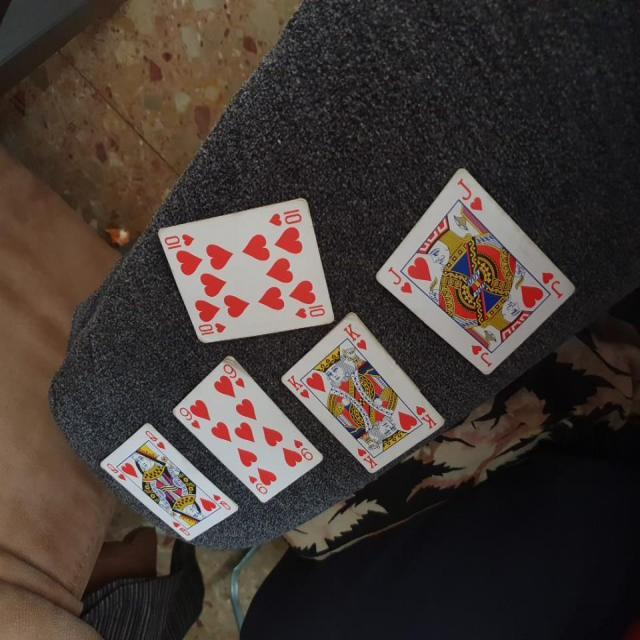10 of hearts: (152, 187, 336, 341)
9 of hearts: (171, 344, 326, 511)
jack of hearts: (366, 160, 576, 382)
king of hearts: (279, 310, 447, 474)
queen of hearts: (97, 418, 240, 550)
